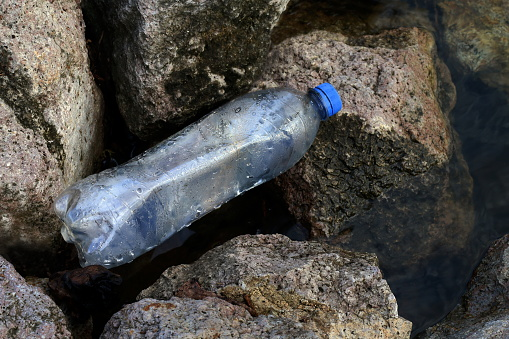plastic_bottle: (29, 36, 373, 289)
